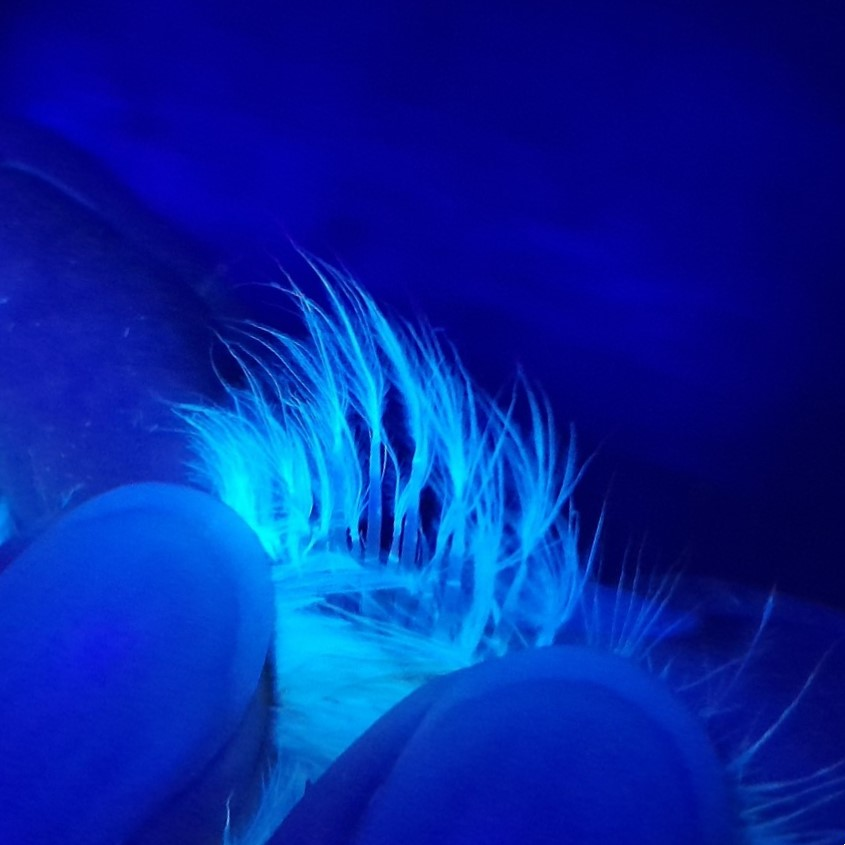male: (266, 385, 566, 671)
